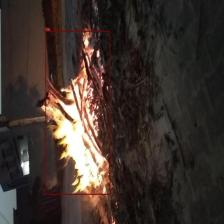fire: (45, 31, 110, 194)
